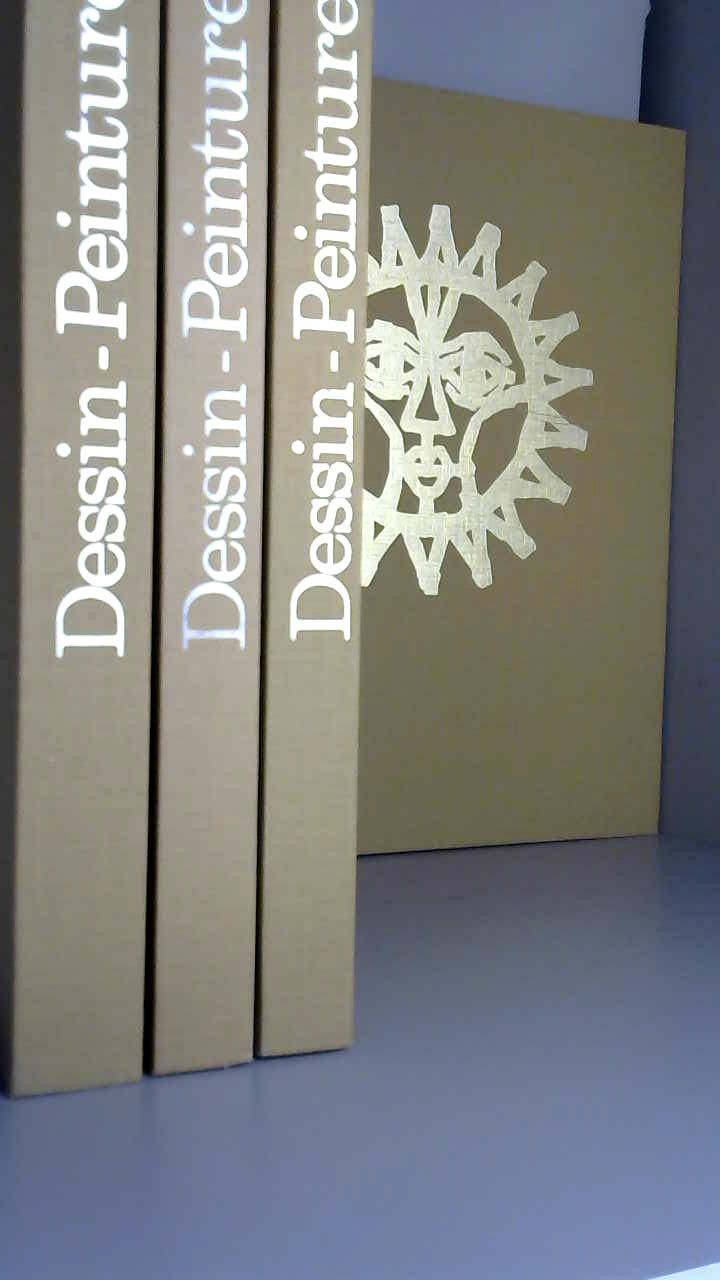book: (0, 0, 707, 1137)
